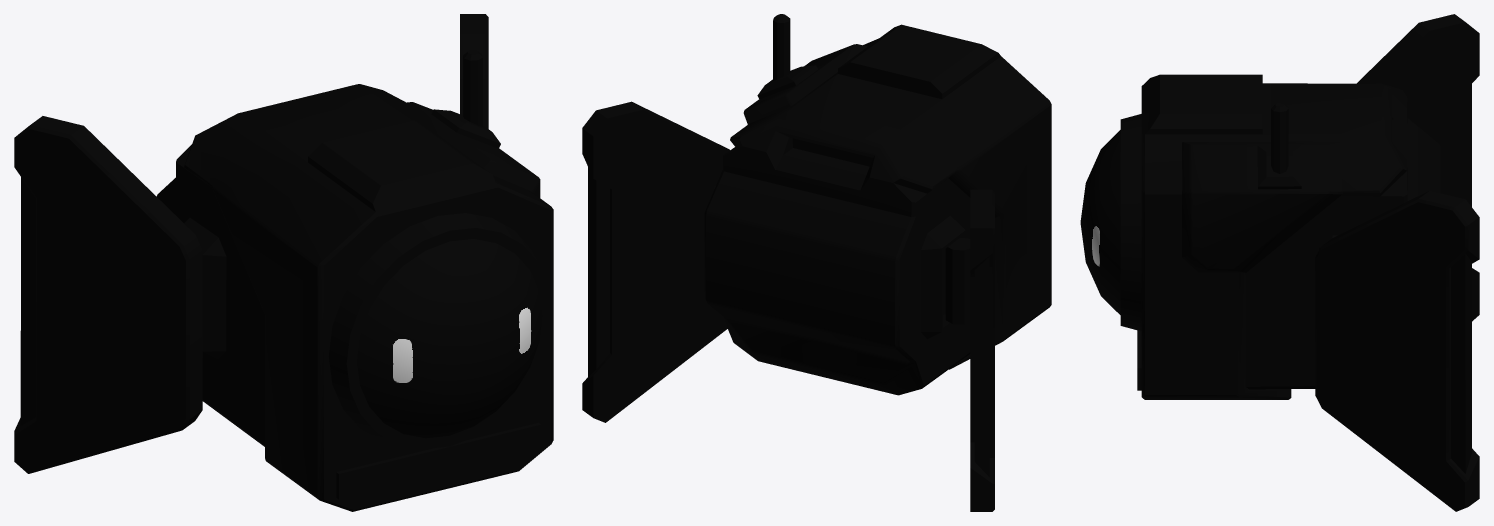
File: Spectator_Camera.glb
3 views of the same model, side by side, from view 1: azimuth 30°, elevation 25°; view 2: azimuth 150°, elevation 25°; view 3: azimuth 270°, elevation 25° (orthographic). The views are drawn at different scales.
Visible parts, largest first — view 1: SpectatorCamera; view 2: SpectatorCamera; view 3: SpectatorCamera.
Part boxes in pixels (left/top/right/bottom): SpectatorCamera: left=14, top=14, right=553, bottom=511; SpectatorCamera: left=582, top=14, right=1051, bottom=511; SpectatorCamera: left=1080, top=14, right=1479, bottom=511.
Bounding box in the file's own units: 0.6045 × 0.503 × 0.5071.
1 material, 1 textured.
